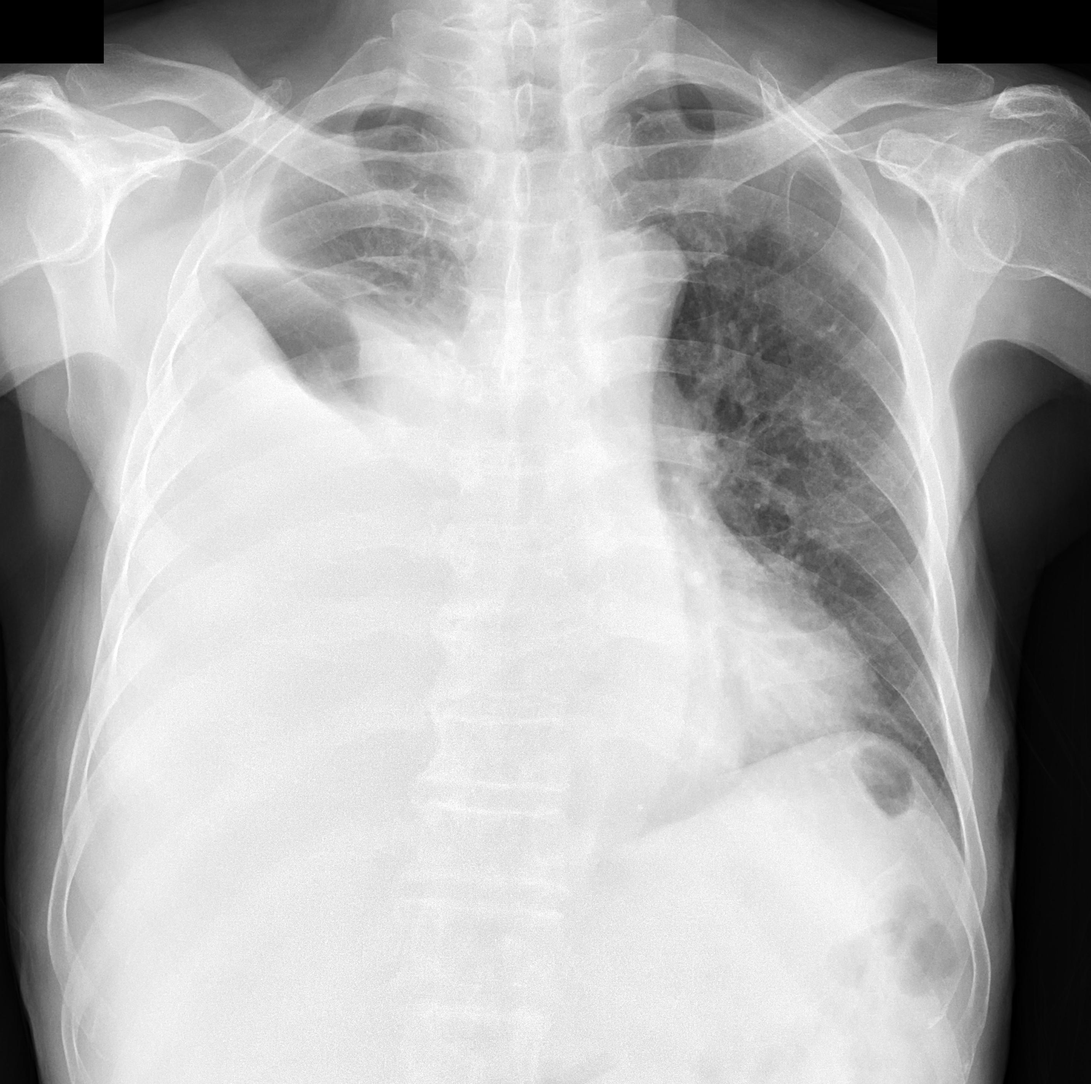Aortic enlargement: (565, 223, 691, 350)
Pleural thickening: (336, 93, 409, 112)
